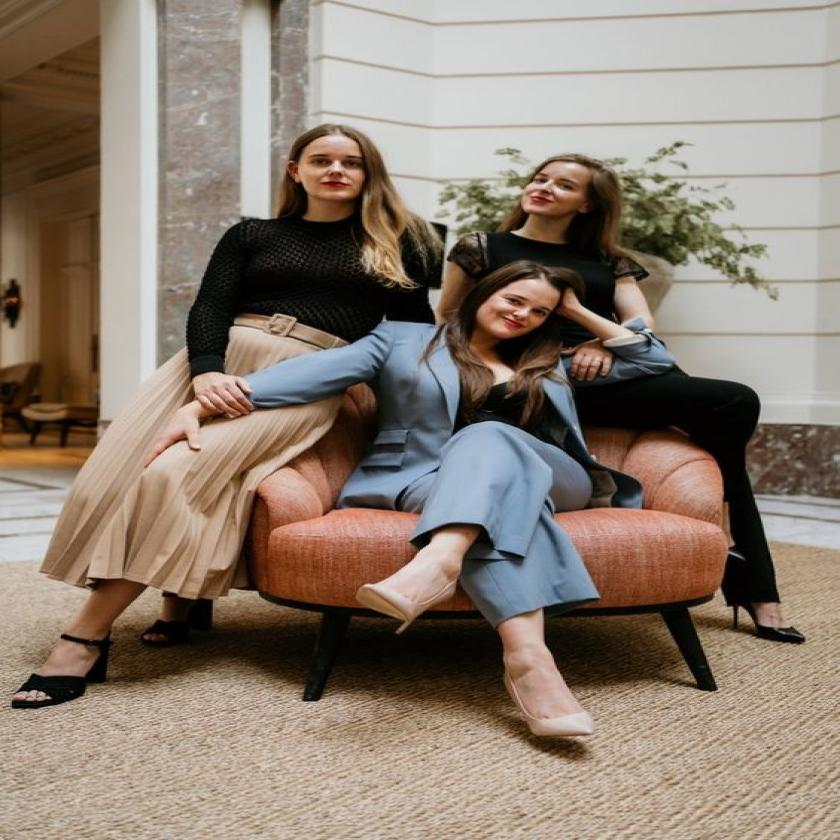Sin_casco: (469, 259, 575, 364), (516, 152, 618, 244), (289, 123, 387, 213)
